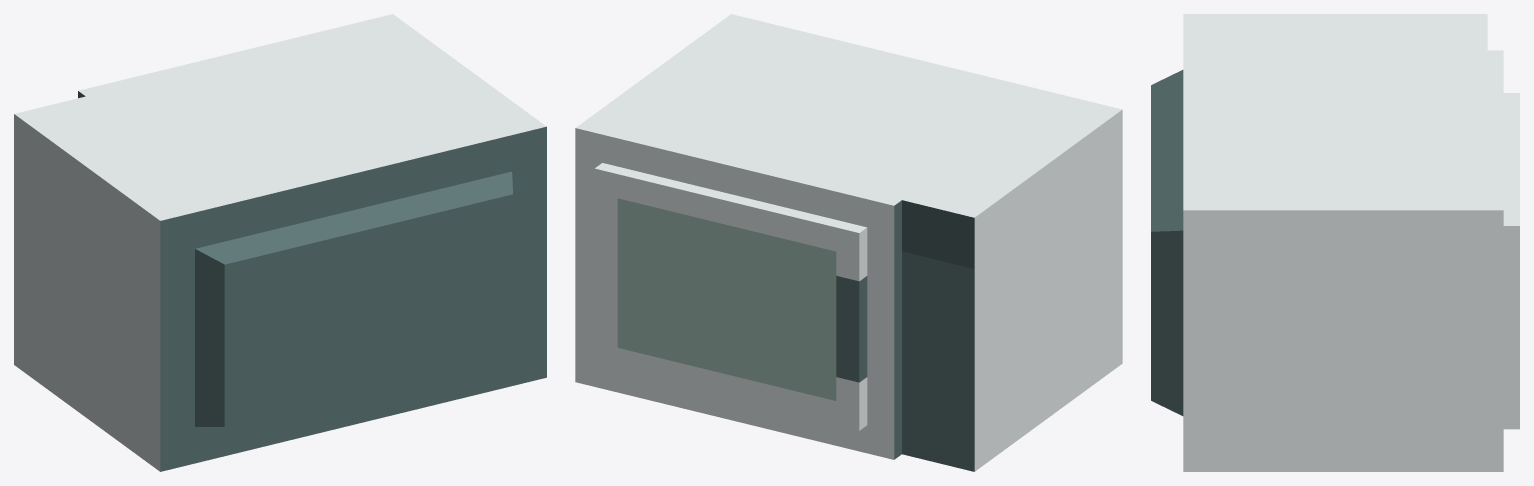
File: kitchenMicrowave.fbx
3 views of the same model, side by side, from view 1: azimuth 30°, elevation 25°; view 2: azimuth 150°, elevation 25°; view 3: azimuth 270°, elevation 25° (orthographic). The views are drawn at different scales.
Parts seen in each view (by area): view 1: kitchenMicrowave; view 2: kitchenMicrowave, Group; view 3: kitchenMicrowave, Group.
Part boxes in pixels (x1,y1,x2,y2): kitchenMicrowave: (14,14,546,471); kitchenMicrowave: (575,14,1122,471); Group: (594,163,867,430); kitchenMicrowave: (1151,14,1503,471); Group: (1503,93,1519,429).
Size of the model in its own units: 2.9 by 1.8 by 2.3.
